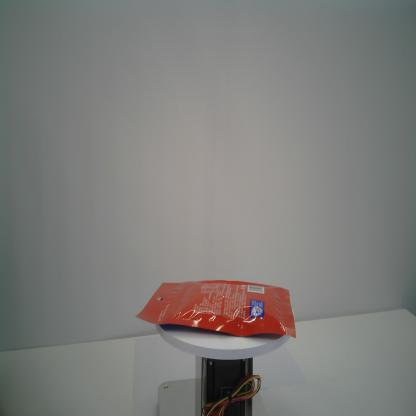Dried Fruit: (135, 280, 297, 340)
